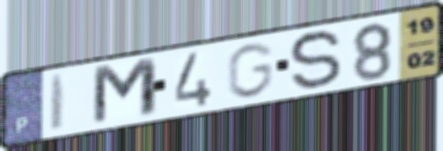4: (173, 49, 213, 109)
8: (349, 18, 394, 83)
G: (224, 41, 277, 101)
I: (48, 70, 70, 134)
M: (90, 54, 161, 128)
S: (287, 28, 345, 94)
